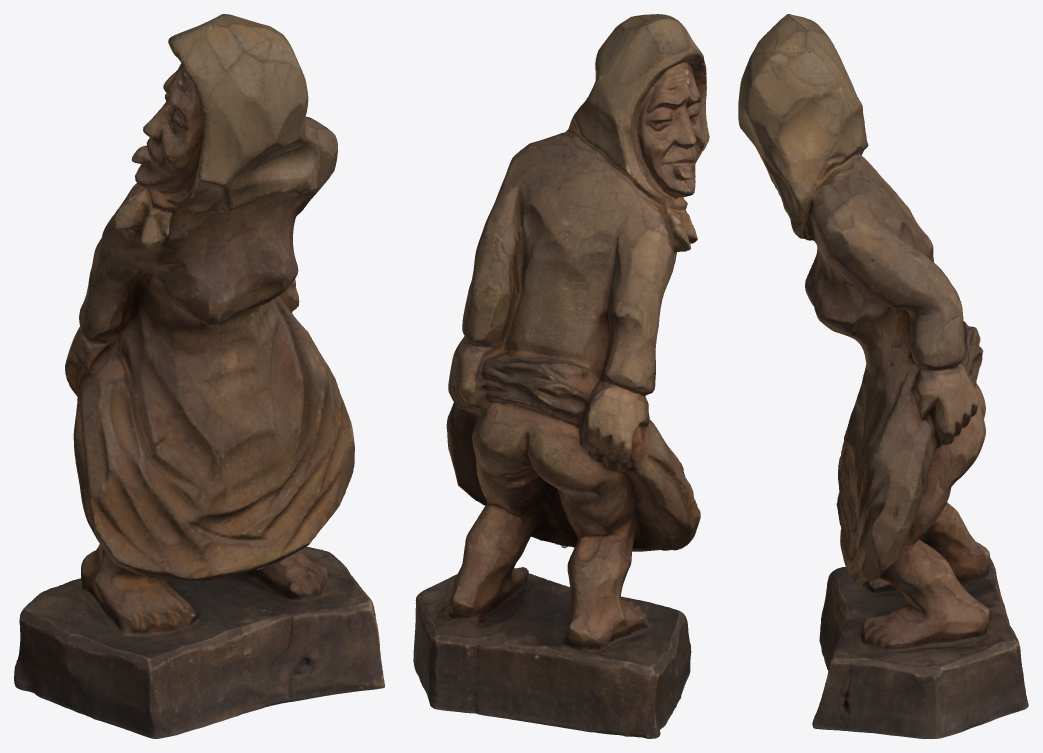
File: MPLW_E_1482_lowpoly.glb
3 renders of one model, left to right at view 1: azimuth 30°, elevation 25°; view 2: azimuth 150°, elevation 25°; view 3: azimuth 270°, elevation 25°, orthographic. The views are drawn at different scales.
Parts seen in each view (by area): view 1: MPLW_E_1482_lowpoly; view 2: MPLW_E_1482_lowpoly; view 3: MPLW_E_1482_lowpoly.
Boxes of the visible parts, x1,y1,x2,y2 form: MPLW_E_1482_lowpoly: [14, 14, 384, 738]; MPLW_E_1482_lowpoly: [413, 14, 709, 738]; MPLW_E_1482_lowpoly: [738, 14, 1028, 738].
Bounding box in the file's own units: 0.1233 × 0.2822 × 0.1172.
1 material, 1 textured.
